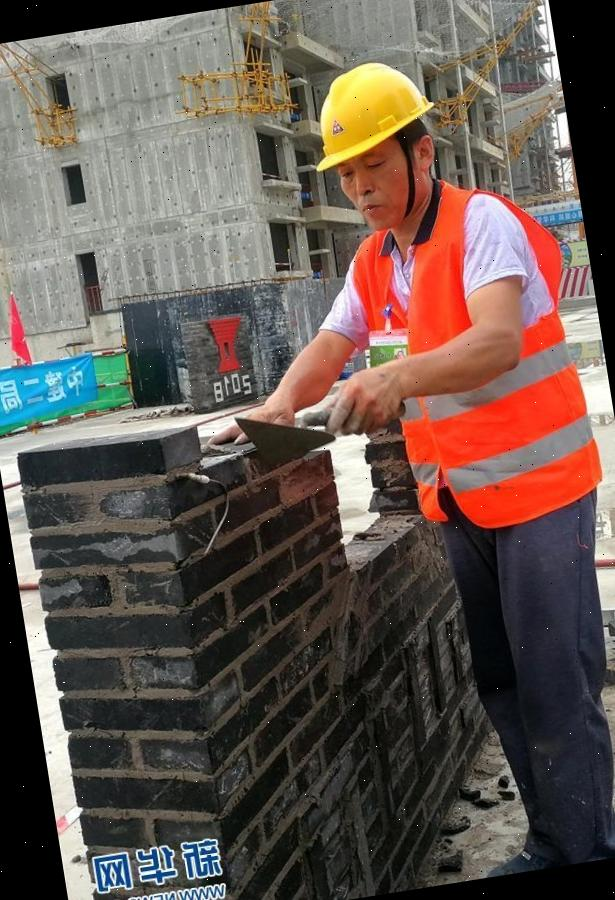helmet: (296, 50, 443, 175)
wear: (354, 204, 591, 524)
